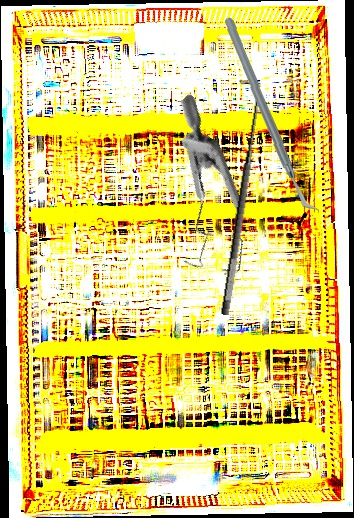Chopper: (220, 17, 323, 214)
Hook Surgical: (202, 79, 269, 316)
Speculum: (102, 93, 301, 294)
